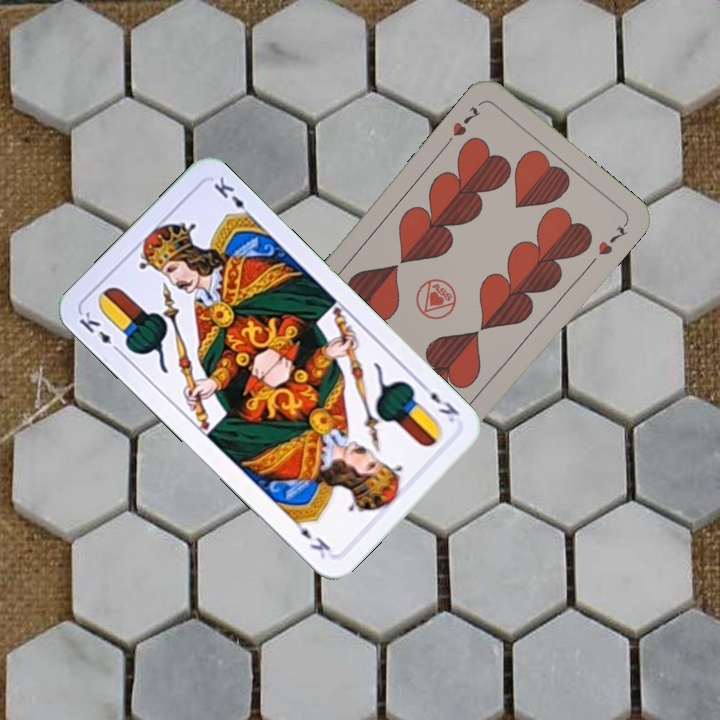EK: (75, 308, 124, 357), (416, 379, 462, 425)
H7: (442, 101, 484, 148)
